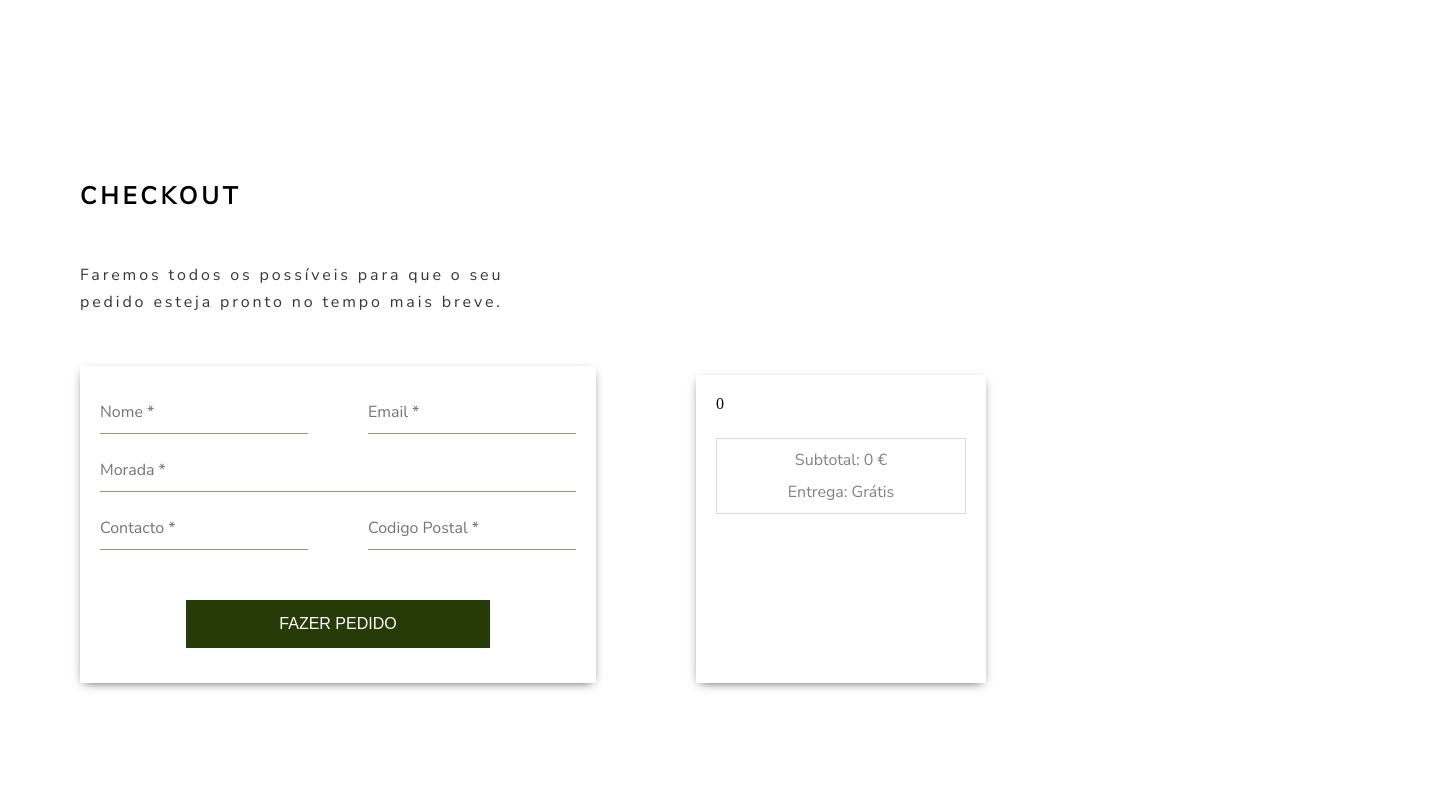
Test: Forms testing › should open dialog on click
This screenshot has width=1440, height=810.
Click the button with id "fzr-pdd": (338, 624) [186,600,490,648]
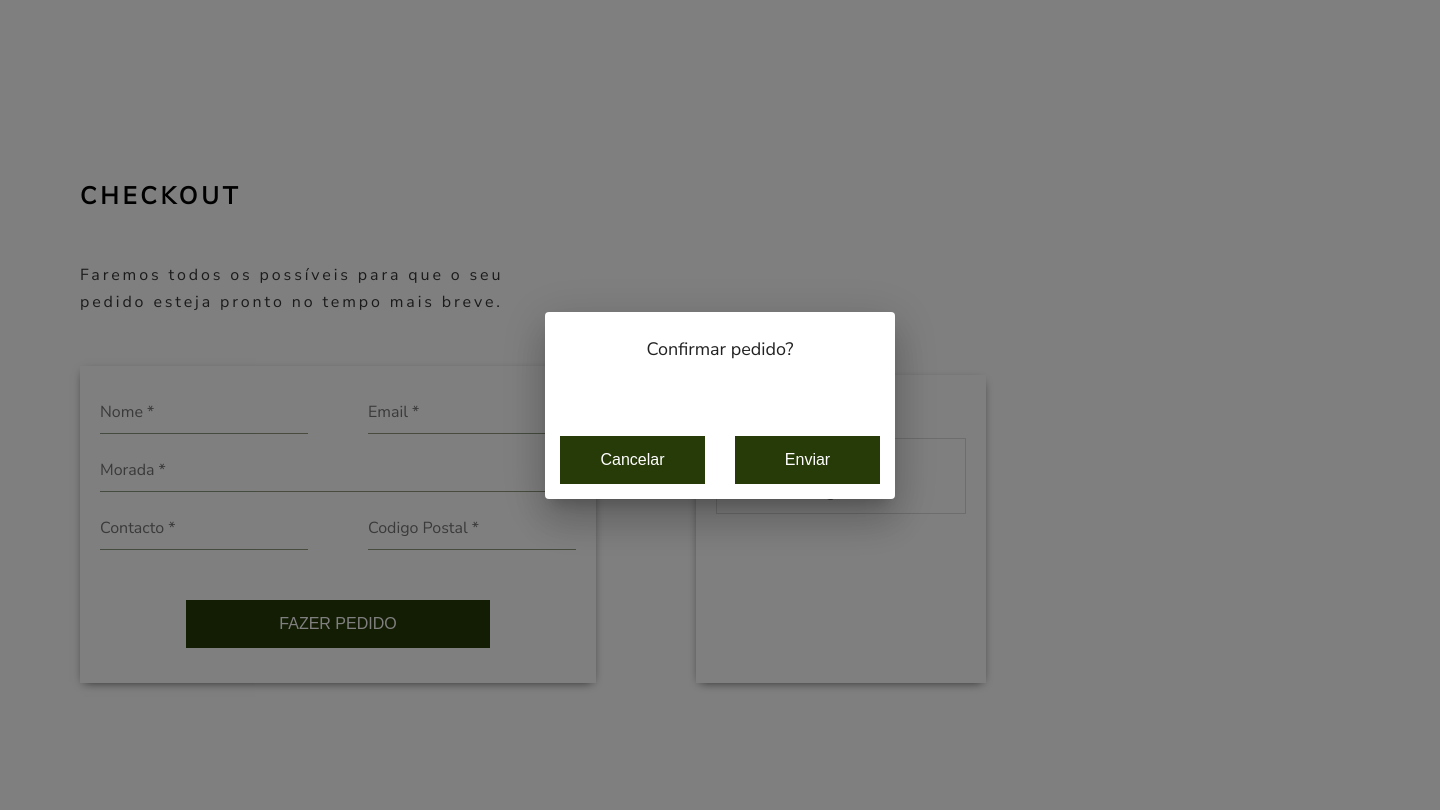
Check: the element with id "dialog-modal" is shown
